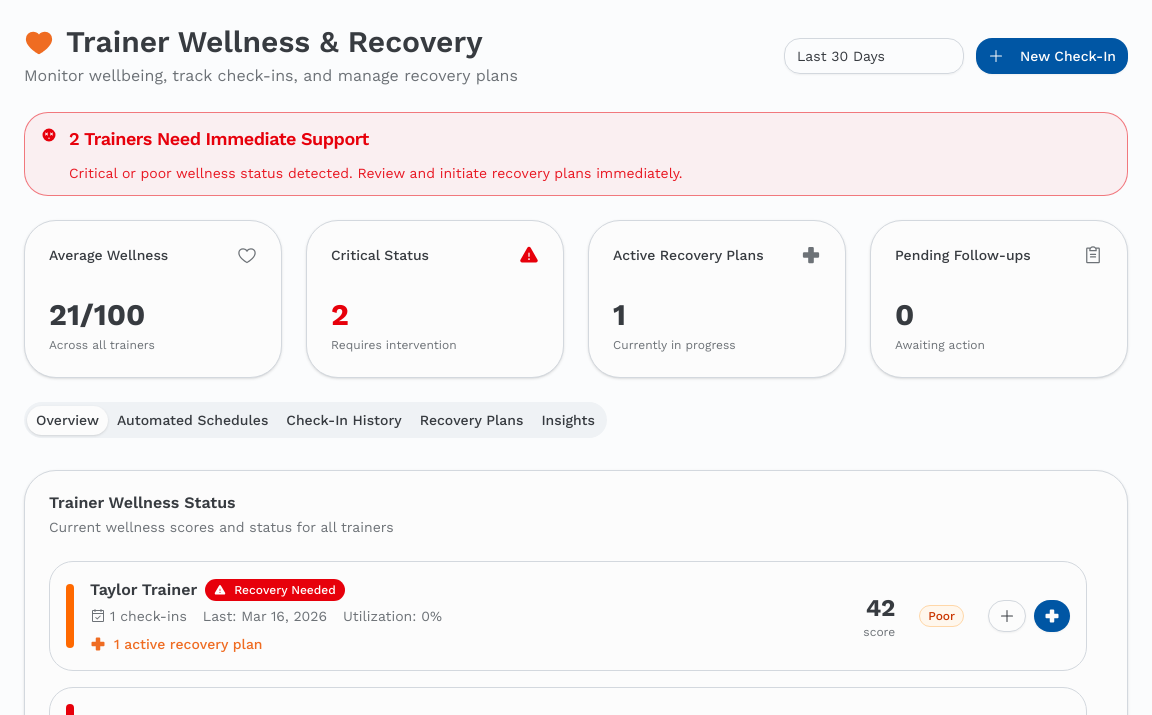
Test: TrainerWellness › shows follow-up completed label in check-in history
Click the tab "Check-In History": (344, 420) [277,406,411,434]
(page scrolled)
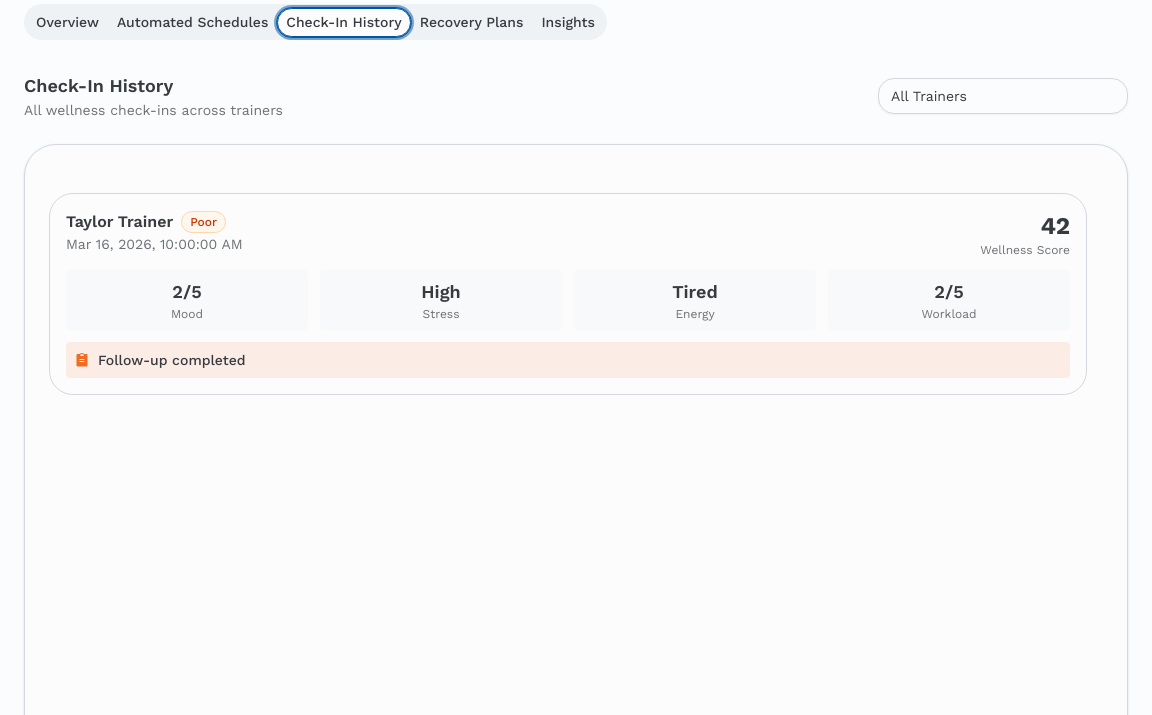
Result: the text "Follow-up completed" is shown at [98,350,246,370]
